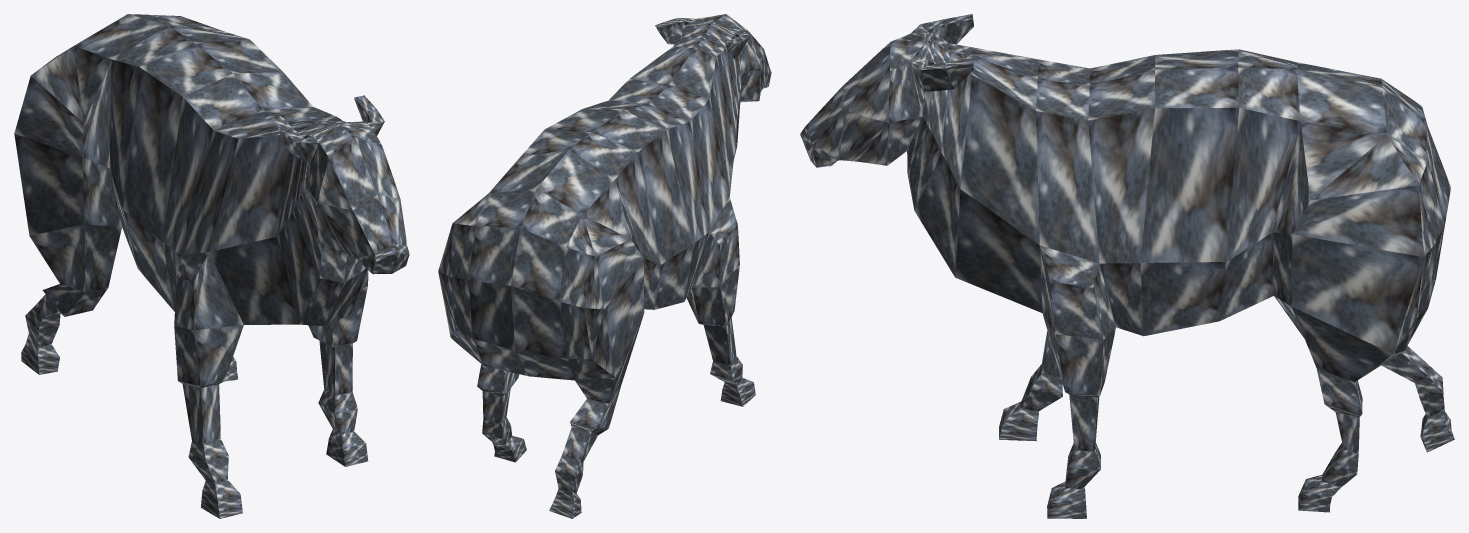
The model's file is SheepIdle_000032.obj.
3 views of the same model, side by side, from view 1: azimuth 30°, elevation 25°; view 2: azimuth 150°, elevation 25°; view 3: azimuth 270°, elevation 25° (orthographic). The views are drawn at different scales.
Visible parts, largest first — view 1: Sheep_Cylinder; view 2: Sheep_Cylinder; view 3: Sheep_Cylinder.
Boxes of the visible parts, x1,y1,x2,y2 form: Sheep_Cylinder: (14, 14, 409, 518); Sheep_Cylinder: (438, 14, 771, 518); Sheep_Cylinder: (800, 14, 1454, 518).
Bounding box in the file's own units: 2.22 × 4.42 × 5.95.
